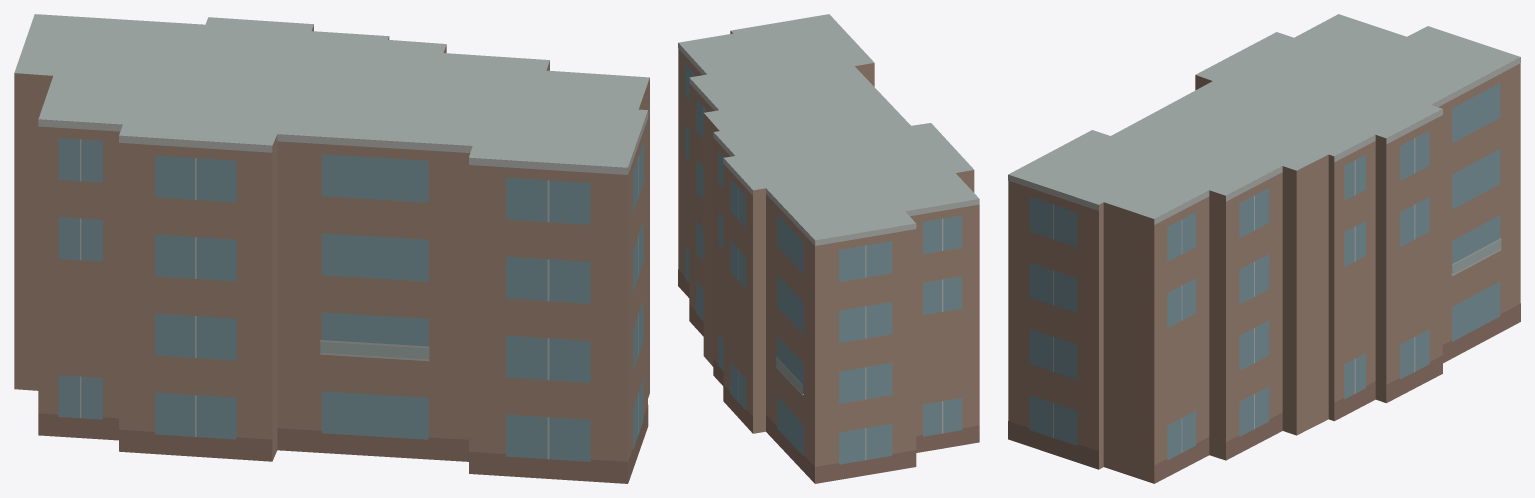
Rendered from survey-upis-32581506.glb.
3 views of the same model, side by side, from view 1: azimuth 30°, elevation 25°; view 2: azimuth 150°, elevation 25°; view 3: azimuth 270°, elevation 25° (orthographic). The views are drawn at different scales.
Parts seen in each view (by area): view 1: survey-upis-32581506.tmp; view 2: survey-upis-32581506.tmp; view 3: survey-upis-32581506.tmp.
Part boxes in pixels (x1,y1,x2,y2): survey-upis-32581506.tmp: [14, 14, 649, 483]; survey-upis-32581506.tmp: [678, 14, 979, 483]; survey-upis-32581506.tmp: [1008, 14, 1520, 483].
Bounding box in the file's own units: 17.69 × 10.65 × 18.69.
